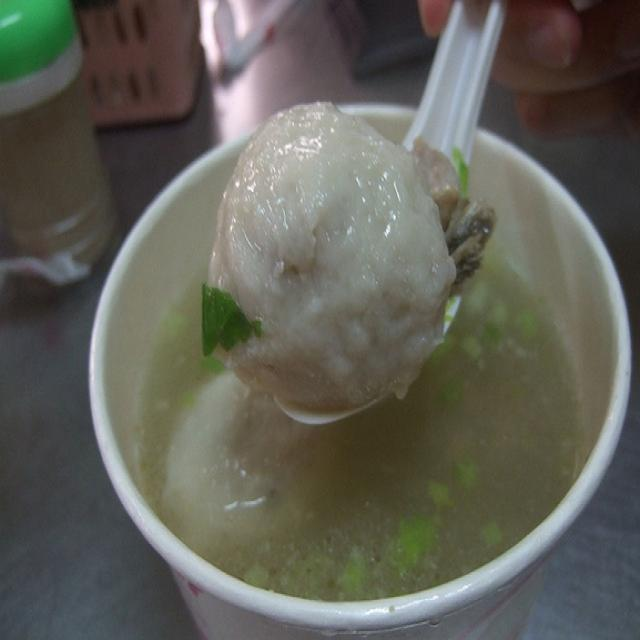熟制海鲜: (75, 74, 609, 624)
